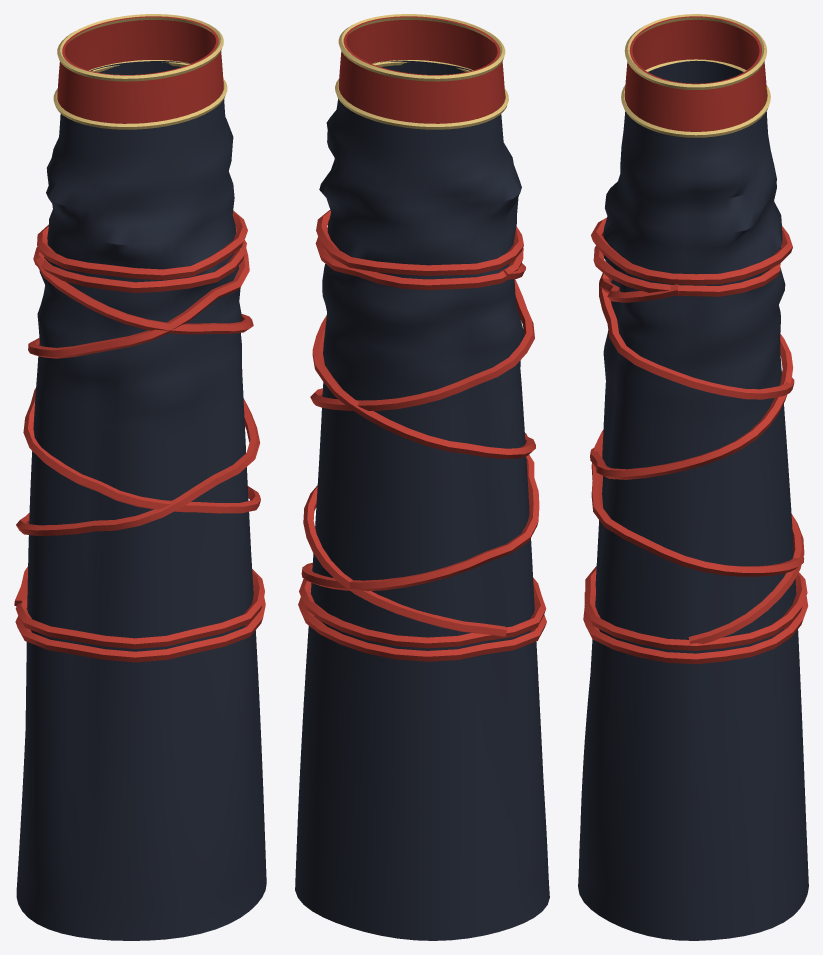
Rendered from arm-r.glb.
The picture shows the model from 3 angles, left to right: view 1: azimuth 30°, elevation 25°; view 2: azimuth 150°, elevation 25°; view 3: azimuth 270°, elevation 25°; orthographic projection.
Visible parts, largest first — view 1: L_arm-r; view 2: L_arm-r; view 3: L_arm-r.
Part boxes in pixels (x1,y1,x2,y2): L_arm-r: (14,14,266,940); L_arm-r: (295,14,549,940); L_arm-r: (578,14,808,940).
Bounding box in the file's own units: 0.1026 × 0.3606 × 0.0901.
